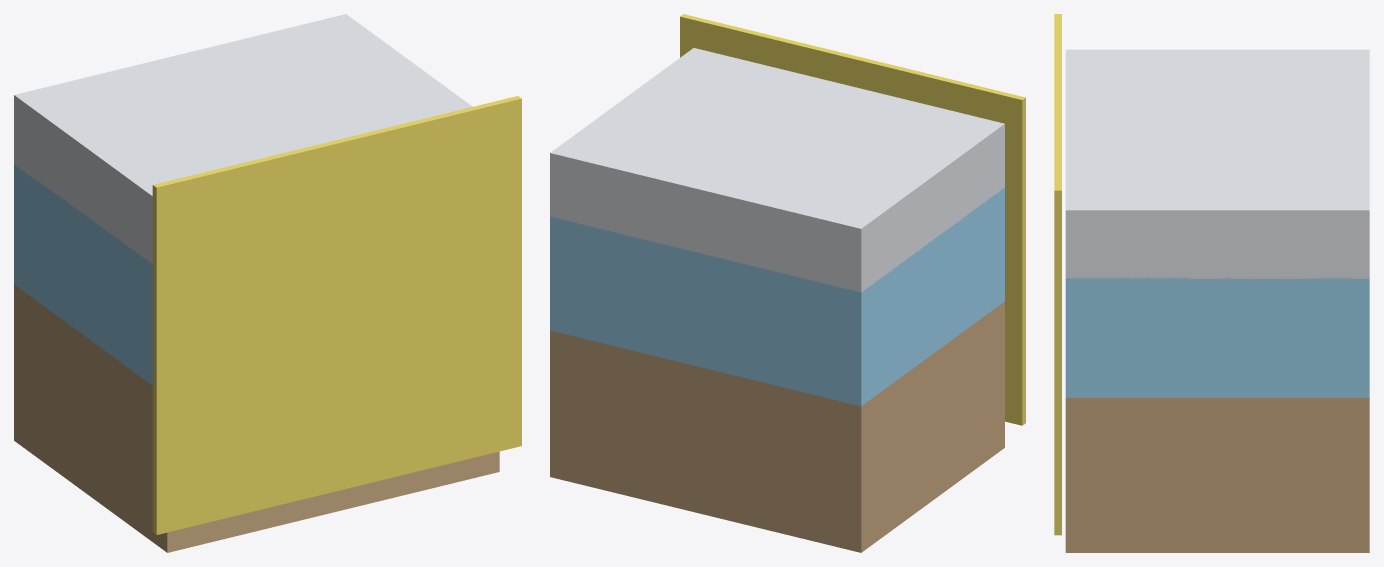
File: soil_phase_relationships_unit_weights.glb
The picture shows the model from 3 angles, left to right: view 1: azimuth 30°, elevation 25°; view 2: azimuth 150°, elevation 25°; view 3: azimuth 270°, elevation 25°; orthographic projection. The views are drawn at different scales.
Parts seen in each view (by area): view 1: ThreePhaseVolumetricGaugeFrame, PoreAirVapourTopLayer, SolidSoilMineralGrainsLayer, PoreWaterCapillaryLiquidLayer; view 2: PoreAirVapourTopLayer, SolidSoilMineralGrainsLayer, PoreWaterCapillaryLiquidLayer, ThreePhaseVolumetricGaugeFrame; view 3: PoreAirVapourTopLayer, SolidSoilMineralGrainsLayer, PoreWaterCapillaryLiquidLayer, ThreePhaseVolumetricGaugeFrame.
Boxes of the visible parts, bbox=[...] form: ThreePhaseVolumetricGaugeFrame: bbox=[152, 96, 521, 534]; PoreAirVapourTopLayer: bbox=[14, 14, 472, 264]; SolidSoilMineralGrainsLayer: bbox=[14, 284, 499, 552]; PoreWaterCapillaryLiquidLayer: bbox=[14, 164, 152, 385]; PoreAirVapourTopLayer: bbox=[550, 48, 1004, 292]; SolidSoilMineralGrainsLayer: bbox=[550, 301, 1004, 552]; PoreWaterCapillaryLiquidLayer: bbox=[550, 187, 1004, 406]; ThreePhaseVolumetricGaugeFrame: bbox=[680, 14, 1025, 425]; PoreAirVapourTopLayer: bbox=[1065, 49, 1369, 278]; SolidSoilMineralGrainsLayer: bbox=[1065, 398, 1369, 552]; PoreWaterCapillaryLiquidLayer: bbox=[1065, 277, 1369, 397]; ThreePhaseVolumetricGaugeFrame: bbox=[1054, 14, 1061, 535].
Bounding box in the file's own units: 1.1 × 1.07 × 0.83.
